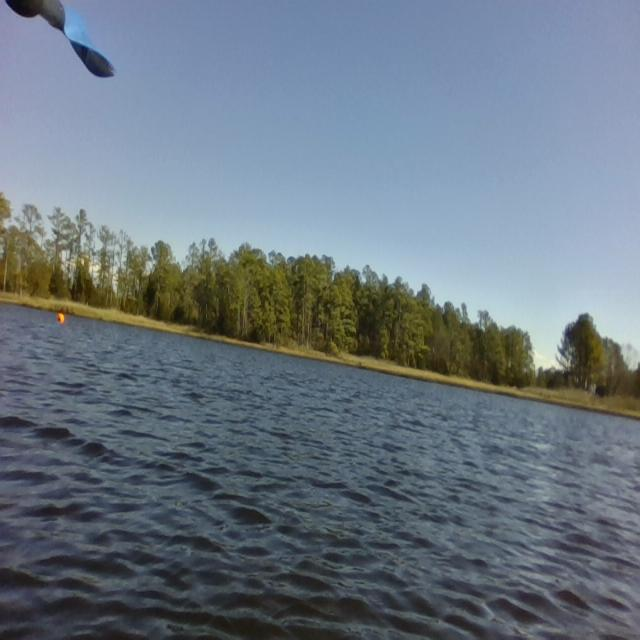Buoy: (53, 307, 68, 334)
